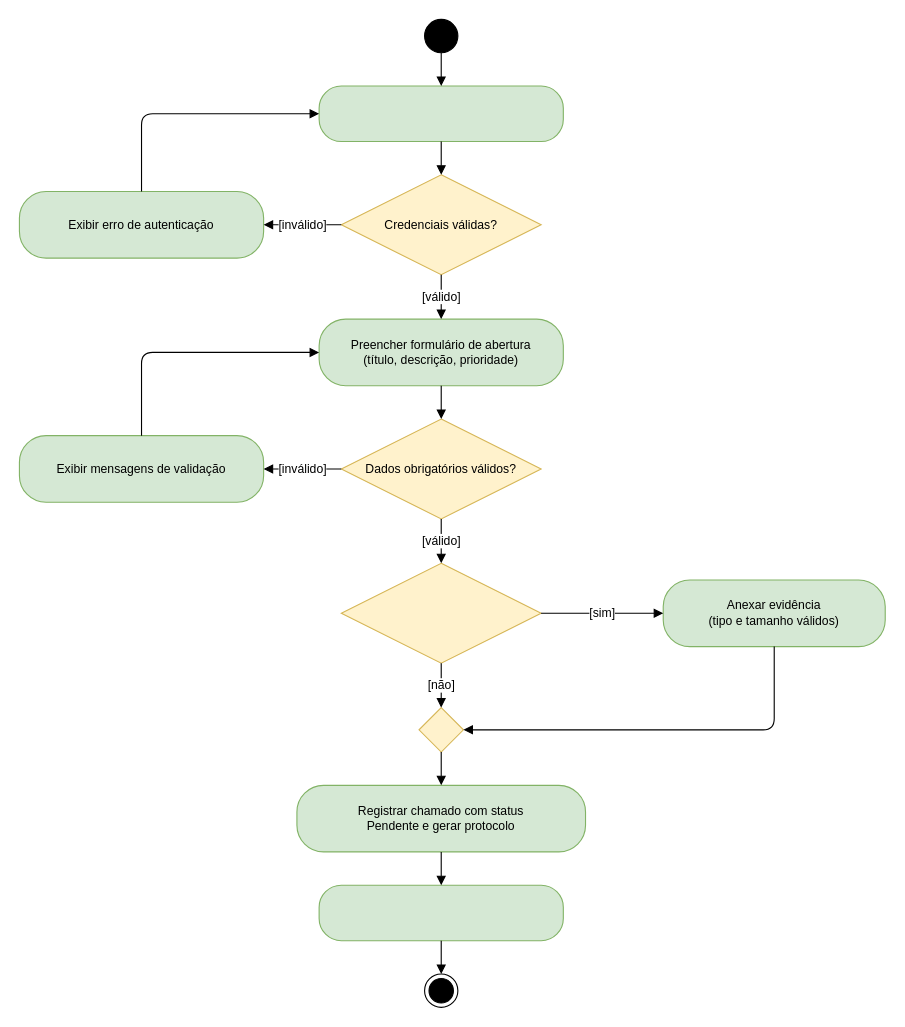
This 905x1027 diagram has some shape labels left out. Here are the shapes that lost their labels. From the top down, the box of each, then its label:
(318, 85, 563, 142): Acessar o sistema e informar credenciais
(340, 562, 541, 663): Deseja anexar evidência?
(318, 884, 563, 941): Exibir confirmação com o protocolo
